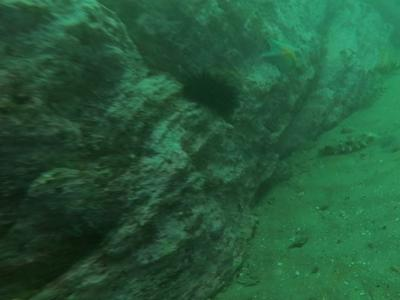holothurian: (317, 132, 378, 157)
urchin: (183, 71, 240, 123)
